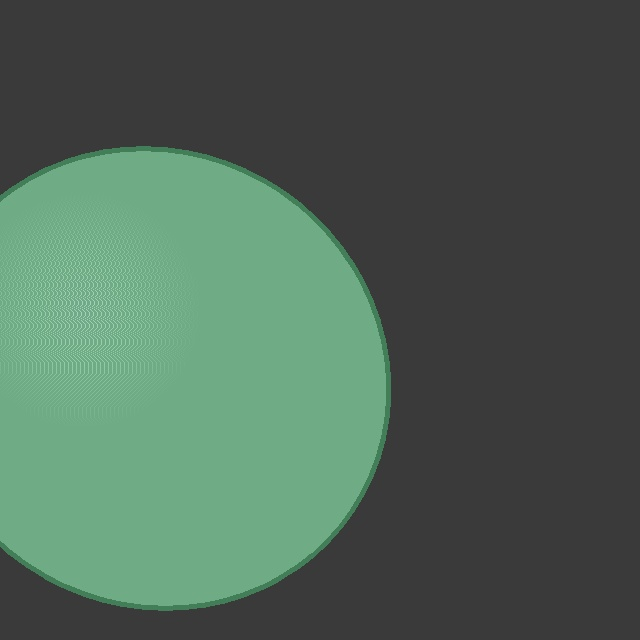lens: (0, 149, 388, 607)
